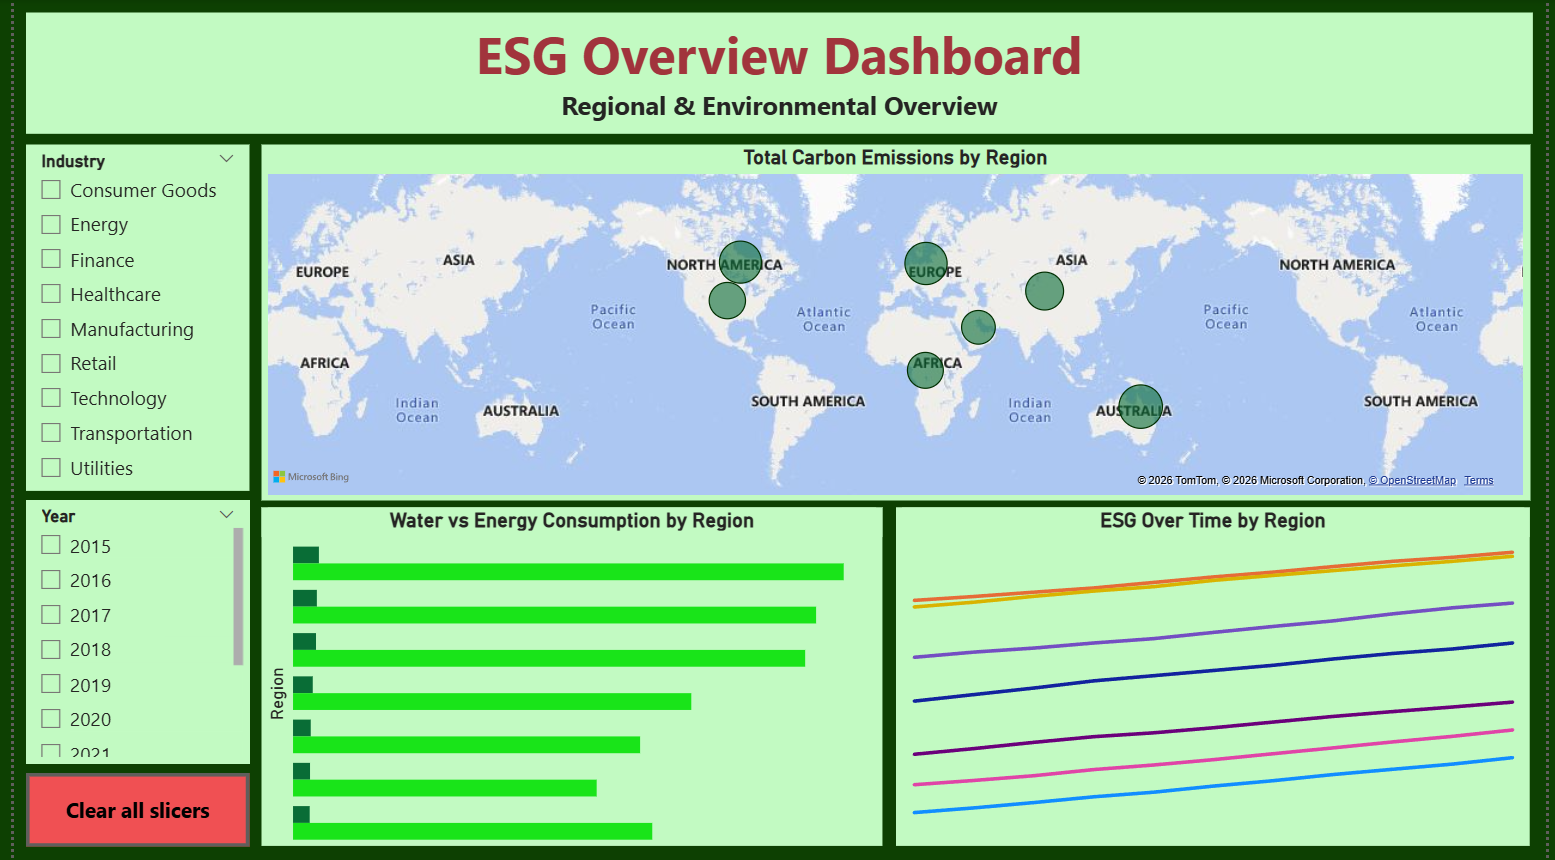

This screenshot's page, from the dashboard's own definition file:
{"tool":"powerbi","page":{"name":"Regional & Environmental View","canvas":[1280,720],"ordinal":2},"visuals":[{"type":"textbox","box":[9.5,11.1,1258.4,101.2],"z":0},{"type":"slicer","fields":{"Values":["new_esg_project company_esg.Industry"]},"box":[9.5,121.7,186.5,289.3],"z":1},{"type":"slicer","fields":{"Values":["new_esg_project company_esg.Year"]},"box":[9.5,418.9,186.5,219.7],"z":2},{"type":"actionButton","box":[9.5,646.6,186.5,61.7],"z":3},{"type":"map","title":"Total Carbon Emissions by Region","fields":{"Category":["new_esg_project company_esg.Region"],"Size":["new_esg_project company_esg.Total_Carbon"]},"box":[207.1,121.7,1059.2,297.2],"z":4},{"type":"clusteredBarChart","title":"Water vs Energy Consumption by Region","fields":{"Category":["new_esg_project company_esg.Region"],"Y":["Sum(new_esg_project company_esg.WaterUsage)","Sum(new_esg_project company_esg.EnergyConsumption)"]},"box":[207.1,425.3,518.5,283],"z":5},{"type":"lineChart","title":"ESG Over Time by Region","fields":{"Category":["new_esg_project company_esg.Year"],"Y":["Sum(new_esg_project company_esg.ESG_Overall)"],"Series":["new_esg_project company_esg.Region"]},"box":[736.7,425.3,529.6,283],"z":6}]}

Visuals, with their boxes in screenshot pixels (x1, y1, x2, y2), scaled from the page's 1280x720 canvas onto the 1555x860 screenshot:
textbox: <region>12, 13, 1540, 134</region>
slicer - new_esg_project company_esg.Industry: <region>12, 145, 238, 491</region>
slicer - new_esg_project company_esg.Year: <region>12, 500, 238, 763</region>
actionButton: <region>12, 772, 238, 846</region>
"Total Carbon Emissions by Region" map: <region>252, 145, 1538, 500</region>
"Water vs Energy Consumption by Region" clusteredBarChart: <region>252, 508, 881, 846</region>
"ESG Over Time by Region" lineChart: <region>895, 508, 1538, 846</region>
